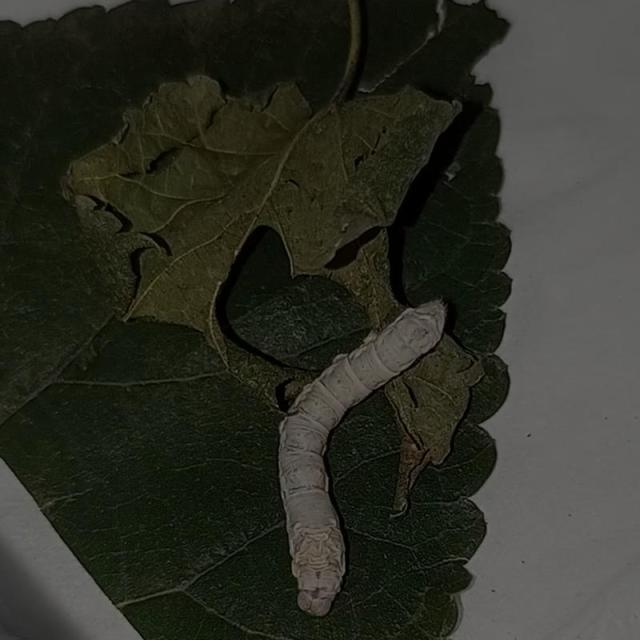Healthy: (247, 247, 473, 637)
